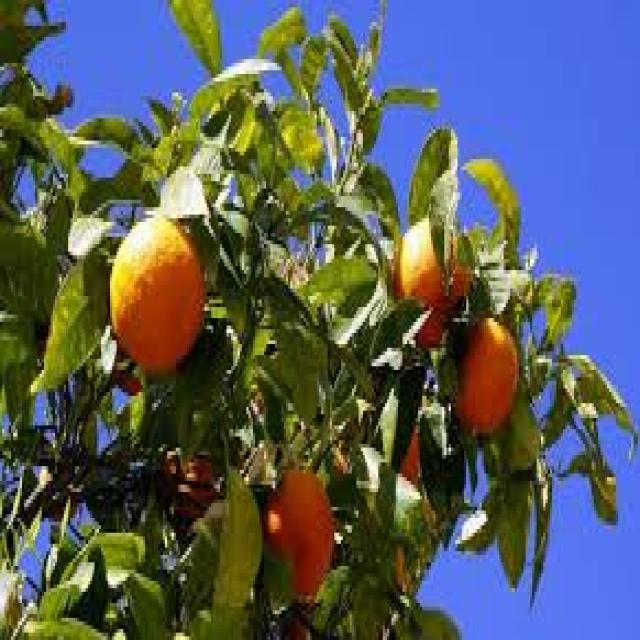orange: (101, 213, 211, 373)
